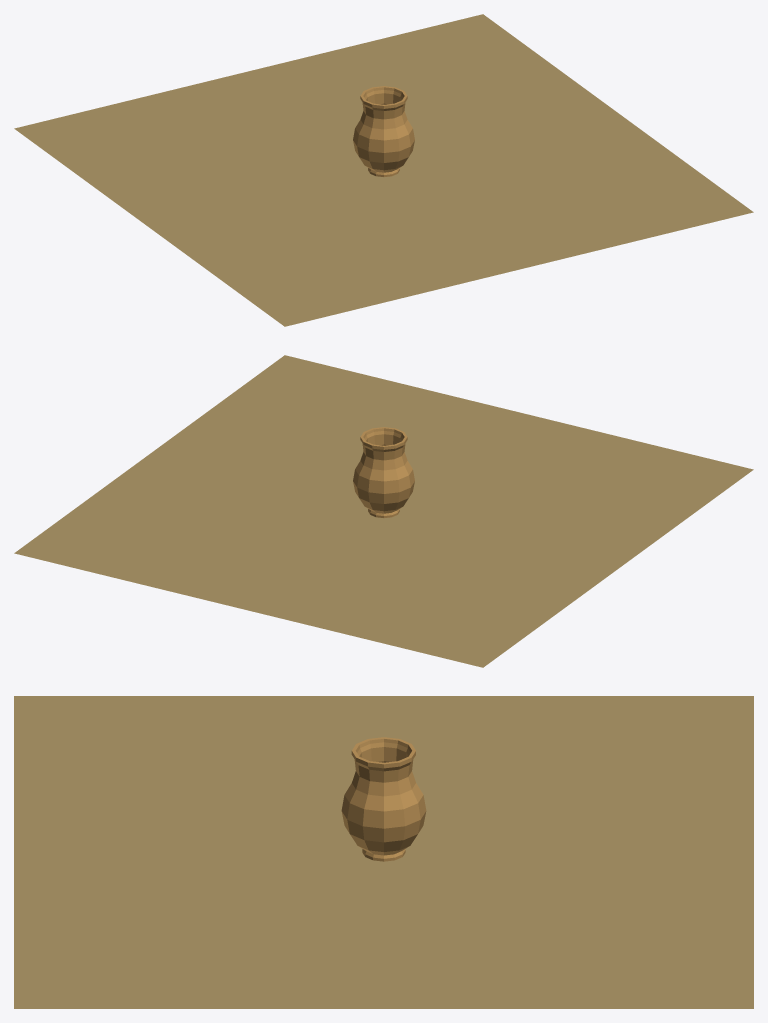
The model's file is Tile 42_Combined_2.fbx.
The picture shows the model from 3 angles, top to bottom: view 1: azimuth 30°, elevation 25°; view 2: azimuth 150°, elevation 25°; view 3: azimuth 270°, elevation 25°; orthographic projection. The views are drawn at different scales.
Parts seen in each view (by area): view 1: MeshBaker_mesh_mesh; view 2: MeshBaker_mesh_mesh; view 3: MeshBaker_mesh_mesh.
Part boxes in pixels (bbox=[...]): MeshBaker_mesh_mesh: bbox=[14, 14, 753, 326]; MeshBaker_mesh_mesh: bbox=[14, 355, 753, 667]; MeshBaker_mesh_mesh: bbox=[14, 696, 753, 1008].
Size of the model in its own units: 3000 by 455 by 3000.
